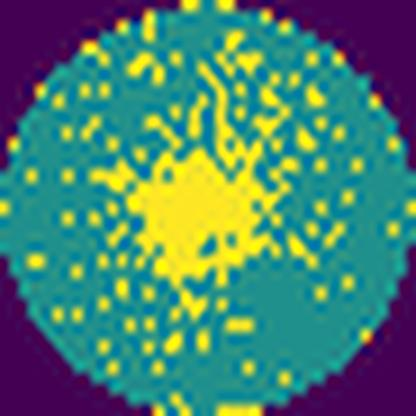Center: (127, 150, 289, 283)
